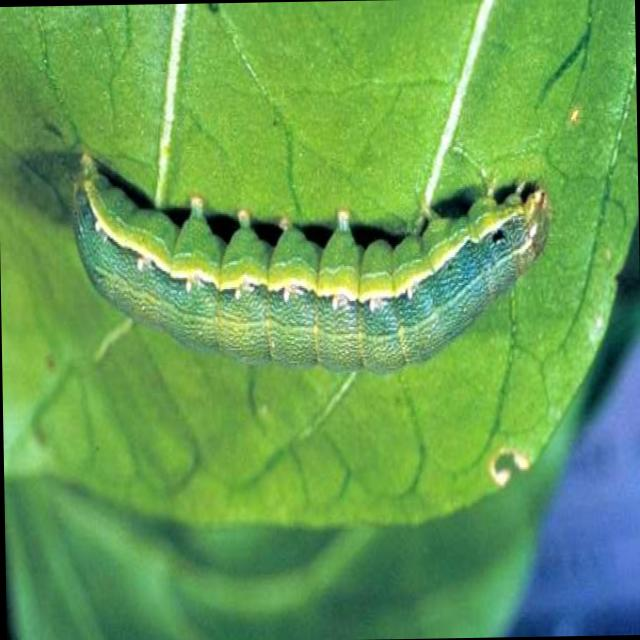Armyworm: (55, 90, 584, 487)
